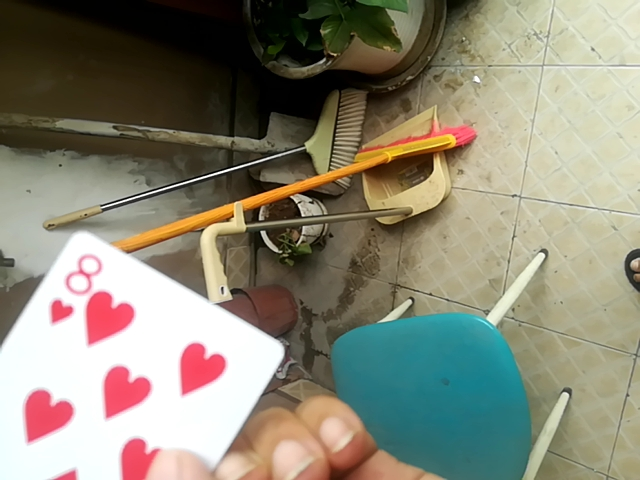hx 8: (0, 231, 286, 479)
